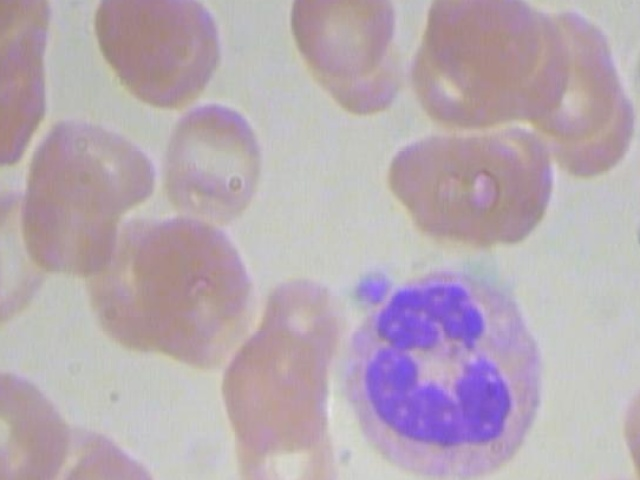RBC: (131, 211, 274, 380), (378, 128, 527, 256), (213, 327, 339, 453), (154, 90, 269, 227), (428, 0, 541, 98), (87, 0, 204, 94), (284, 0, 397, 84), (224, 413, 344, 480), (53, 446, 179, 480), (611, 369, 640, 480), (639, 104, 640, 216)
WBC: (324, 254, 550, 480)
